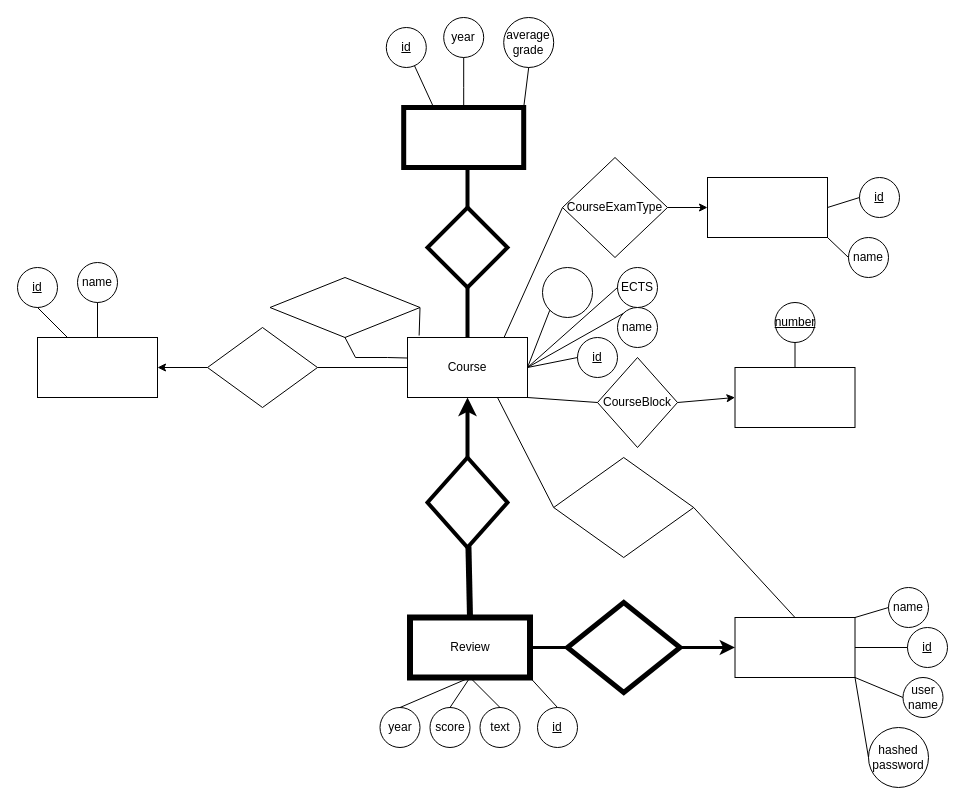
Image size: 965x805. Some labels were removed from this diagram. Here are the shapes that lost their labels. From the top down, the centre of each, then its label:
At point 463,137: "CourseResult".
At point 767,207: "ExamType".
At point 467,247: "result for".
At point 344,307: "CoursePrerequisite".
At point 567,292: "duration".
At point 97,367: "Professor".
At point 262,367: "CourseProfessor".
At point 794,397: "Block".
At point 467,502: "Reviews".
At point 623,507: "CompletedCourses".
At point 623,647: "StudentReview".
At point 794,647: "Student".
